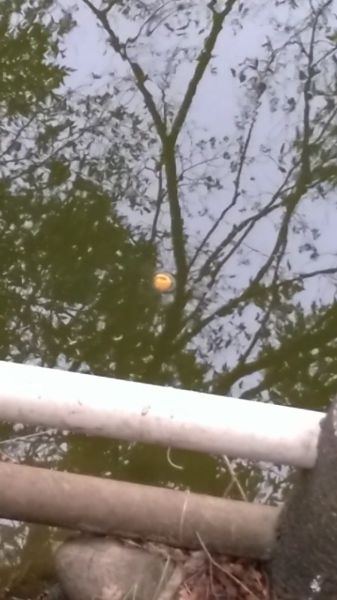eggs: (148, 269, 176, 296)
